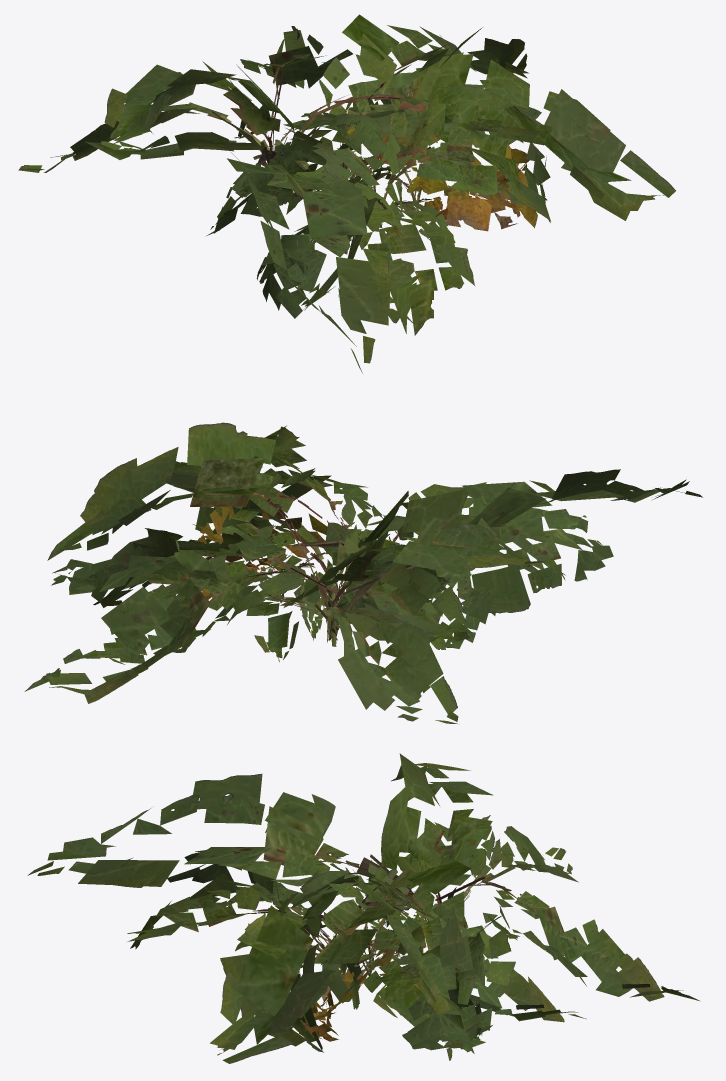
The model's file is weed_plant_02.glb.
3 renders of one model, top to bottom at view 1: azimuth 30°, elevation 25°; view 2: azimuth 150°, elevation 25°; view 3: azimuth 270°, elevation 25°, orthographic. The views are drawn at different scales.
Parts seen in each view (by area): view 1: weed_plant_02_a_LOD0 (×2), weed_plant_02_b_LOD0 (×2), weed_plant_02_c_LOD0 (×2), weed_plant_02_e_LOD0 (×2), weed_plant_02_d_LOD0 (×2); view 2: weed_plant_02_a_LOD0 (×2), weed_plant_02_b_LOD0 (×2), weed_plant_02_c_LOD0 (×2), weed_plant_02_d_LOD0 (×2), weed_plant_02_e_LOD0 (×2); view 3: weed_plant_02_a_LOD0 (×2), weed_plant_02_b_LOD0 (×2), weed_plant_02_c_LOD0 (×2), weed_plant_02_d_LOD0 (×2), weed_plant_02_e_LOD0 (×2).
Boxes of the visible parts, bbox=[...] form: weed_plant_02_a_LOD0 (×2): bbox=[18, 26, 675, 373]; weed_plant_02_b_LOD0 (×2): bbox=[85, 14, 529, 335]; weed_plant_02_c_LOD0 (×2): bbox=[217, 86, 550, 310]; weed_plant_02_e_LOD0 (×2): bbox=[240, 131, 523, 216]; weed_plant_02_d_LOD0 (×2): bbox=[206, 67, 481, 242]; weed_plant_02_a_LOD0 (×2): bbox=[24, 425, 702, 723]; weed_plant_02_b_LOD0 (×2): bbox=[47, 422, 613, 664]; weed_plant_02_c_LOD0 (×2): bbox=[195, 454, 565, 661]; weed_plant_02_d_LOD0 (×2): bbox=[91, 508, 495, 648]; weed_plant_02_e_LOD0 (×2): bbox=[201, 522, 449, 623]; weed_plant_02_a_LOD0 (×2): bbox=[27, 753, 700, 1063]; weed_plant_02_b_LOD0 (×2): bbox=[127, 815, 586, 1041]; weed_plant_02_c_LOD0 (×2): bbox=[189, 873, 522, 1052]; weed_plant_02_d_LOD0 (×2): bbox=[315, 863, 482, 1049]; weed_plant_02_e_LOD0 (×2): bbox=[300, 860, 419, 1023].
Bounding box in the file's own units: 0.2304 × 0.0817 × 0.3037.
Materials: 1 (1 with a texture image).
